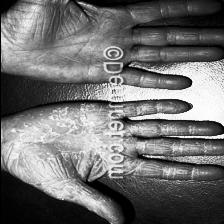Toxin: (43, 106, 106, 166), (7, 124, 26, 166)
